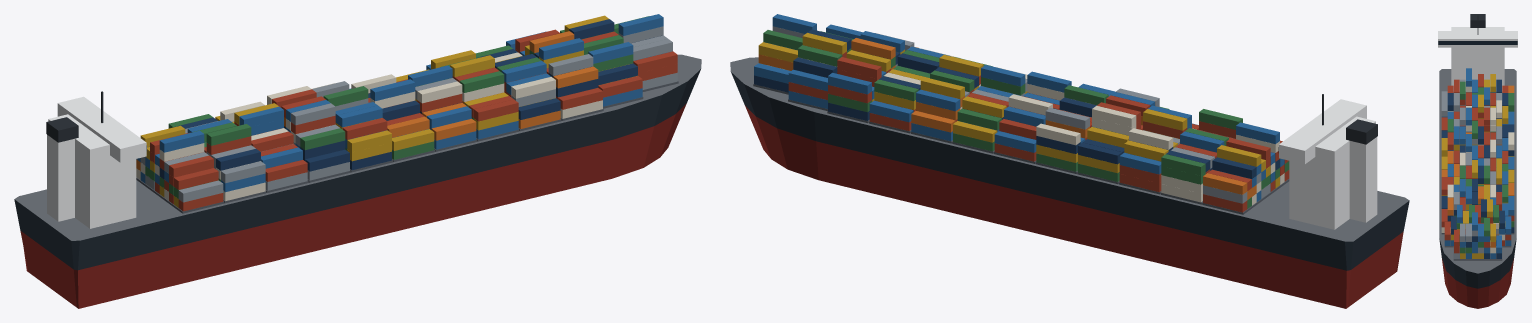
The model's file is buque.glb.
3 renders of one model, left to right at view 1: azimuth 30°, elevation 25°; view 2: azimuth 150°, elevation 25°; view 3: azimuth 270°, elevation 25°, orthographic. The views are drawn at different scales.
Visible parts, largest first — view 1: buque; view 2: buque; view 3: buque.
Part boxes in pixels (x1,y1,x2,y2): buque: (14,14,701,308); buque: (730,14,1409,308); buque: (1438,14,1517,308).
Bounding box in the file's own units: 200 × 54 × 33.
